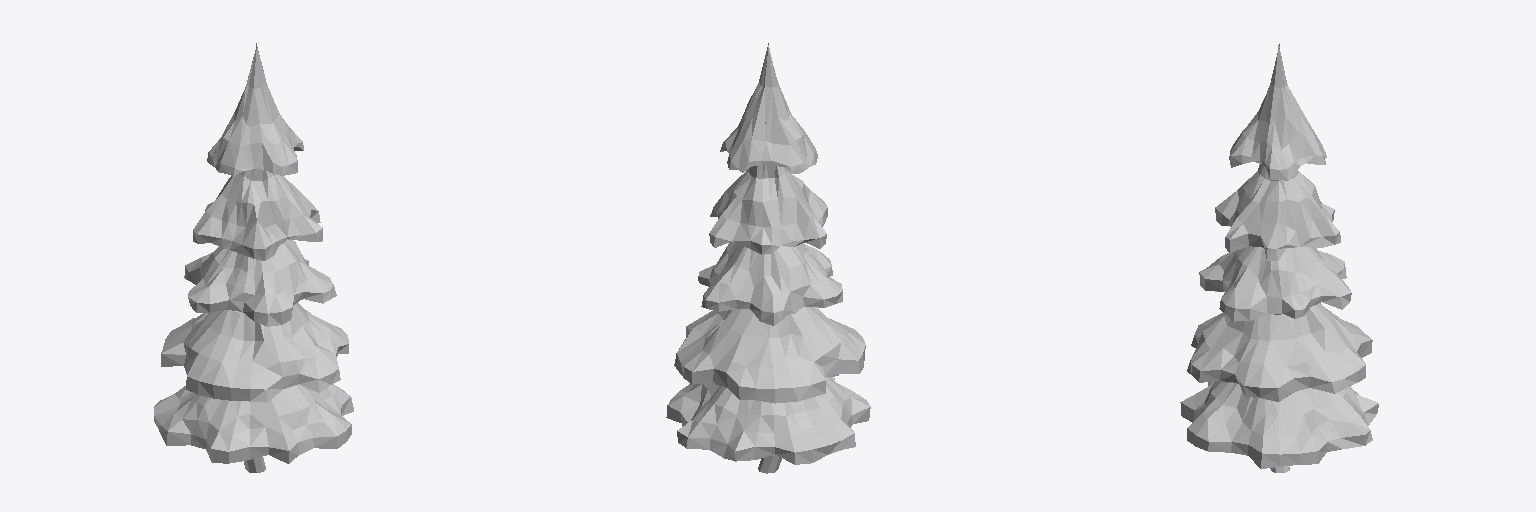
The model's file is tree_cube_2.obj.
3 renders of one model, left to right at view 1: azimuth 30°, elevation 25°; view 2: azimuth 150°, elevation 25°; view 3: azimuth 270°, elevation 25°, orthographic.
Visible parts, largest first — view 1: tree_cube_2; view 2: tree_cube_2; view 3: tree_cube_2.
Part boxes in pixels (x1,y1,x2,y2): tree_cube_2: (154,43,353,472); tree_cube_2: (666,43,870,473); tree_cube_2: (1180,43,1378,472).
Bounding box in the file's own units: 0.9411 × 2.16 × 0.9146.